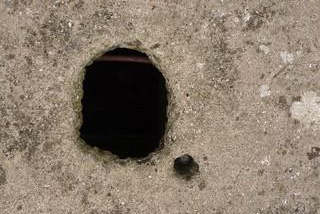Exposed reinforcement: (95, 54, 152, 63)
Spalling: (77, 46, 171, 163), (172, 152, 200, 181)
